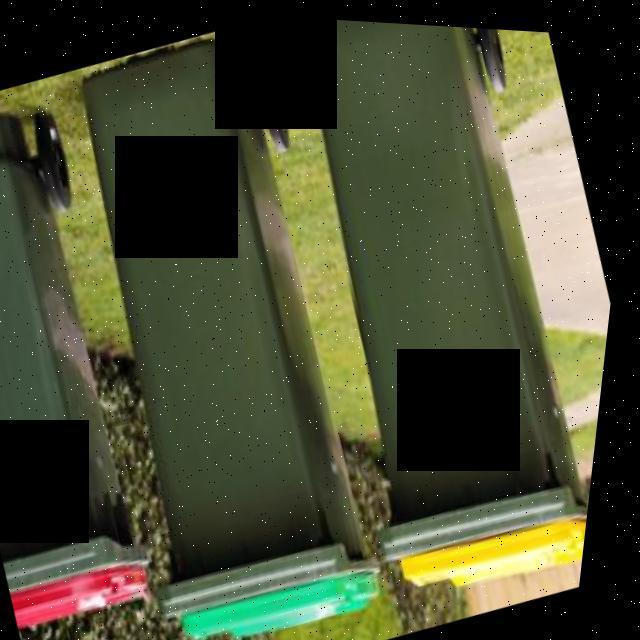bin: (0, 2, 469, 640), (200, 12, 640, 626), (0, 72, 234, 640)
